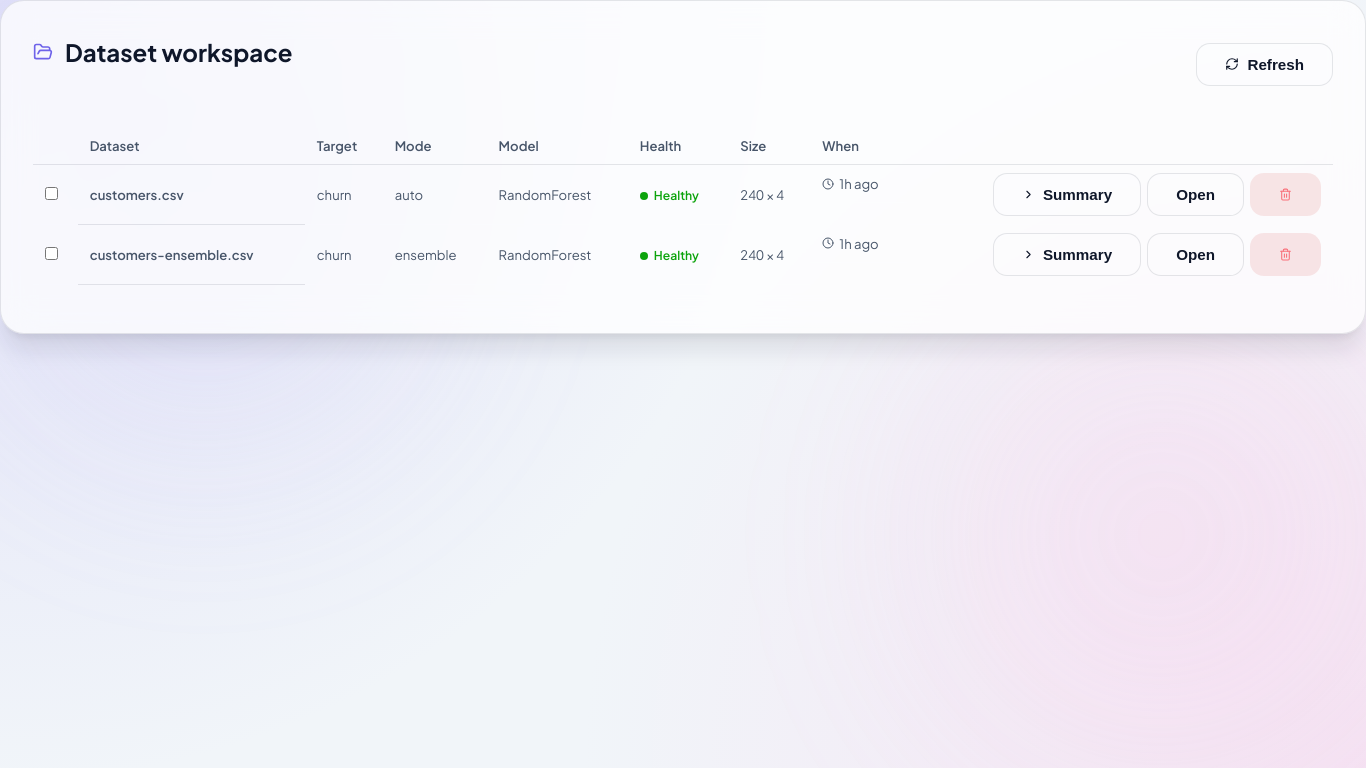
Test: Workspace › compares selected runs
The image size is (1366, 768).
What coordinates should you click on to do the following:
click the checkbox named "Compare customers.csv"
I would click on:
 (52, 194)
Its box is [45,187,58,200].
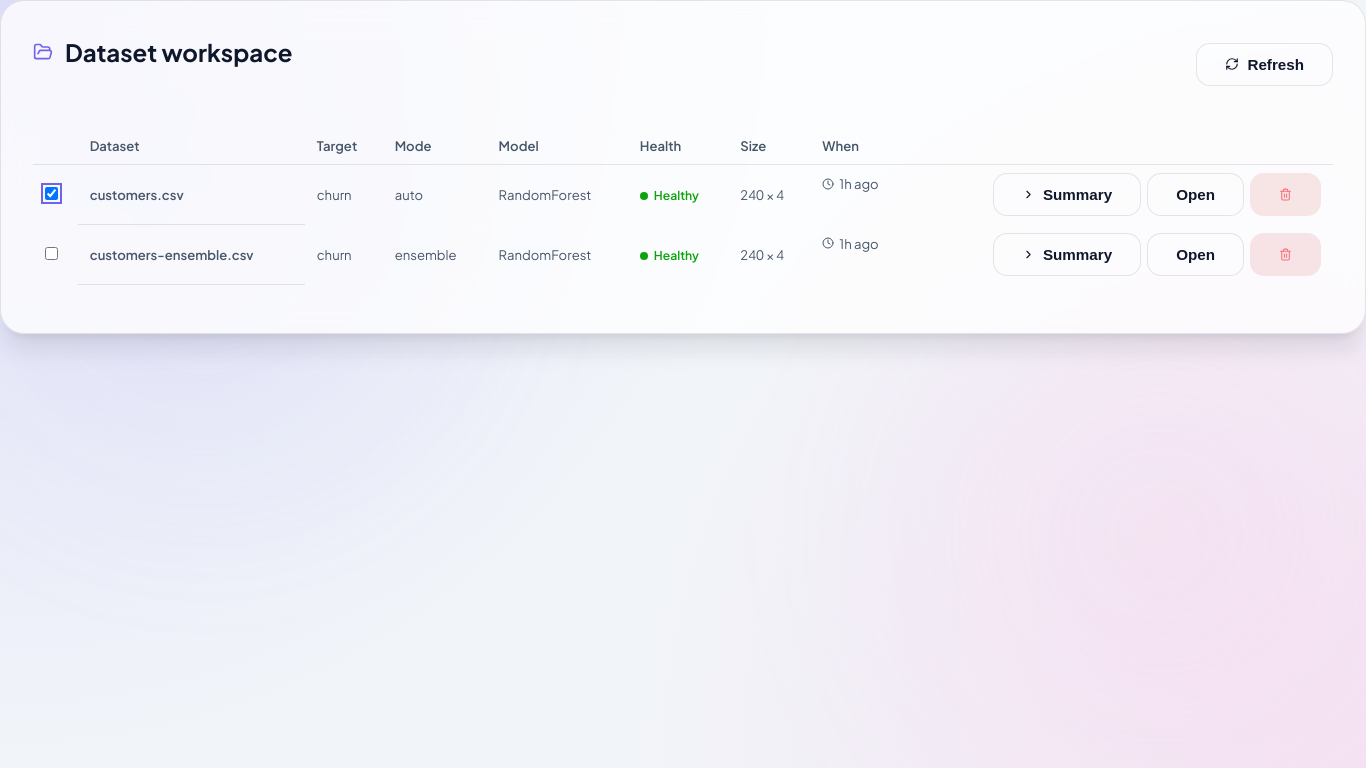
What coordinates should you click on to do the following:
click the checkbox named "Compare customers-ensemble.csv"
I would click on:
 (52, 254)
Its box is [45,247,58,260].
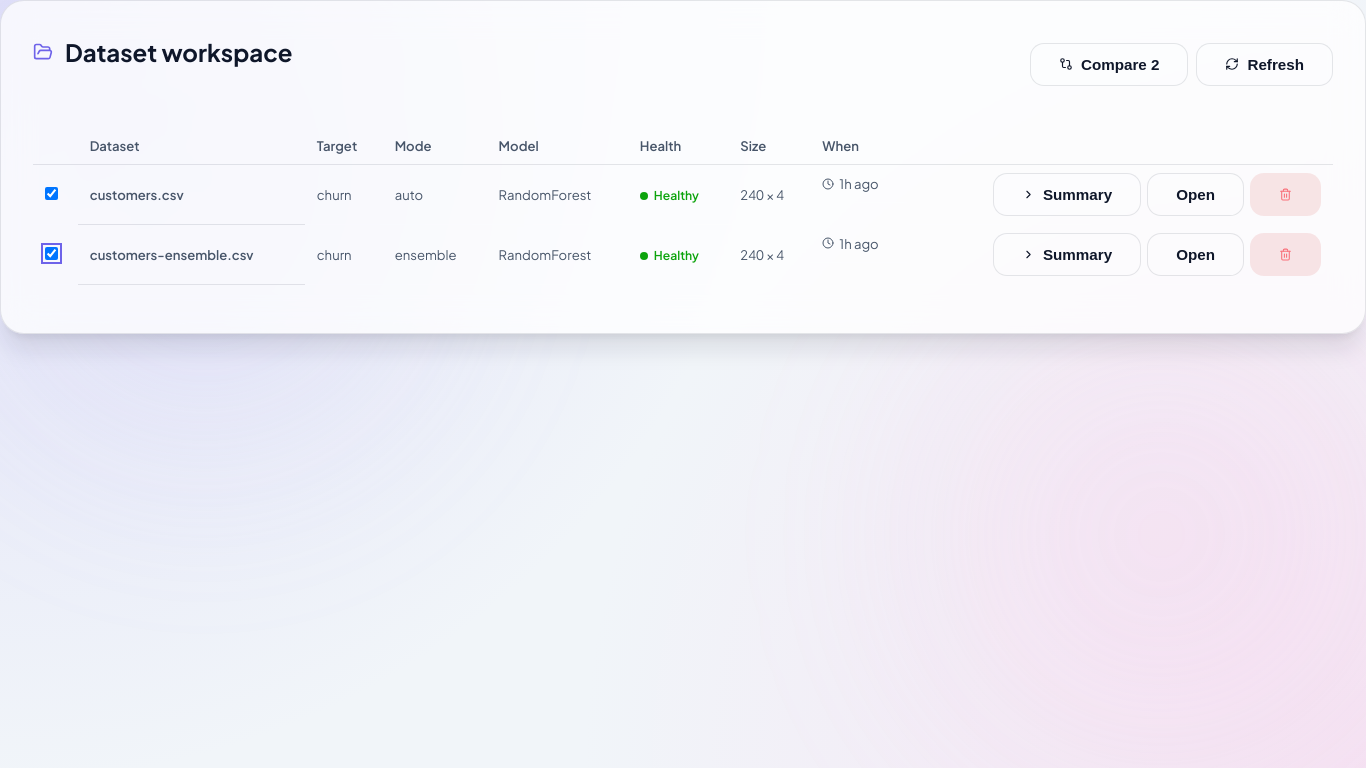
What coordinates should you click on to do the following:
click the button "Compare 2"
I would click on:
 (1109, 64)
Its box is [1030,43,1188,86].
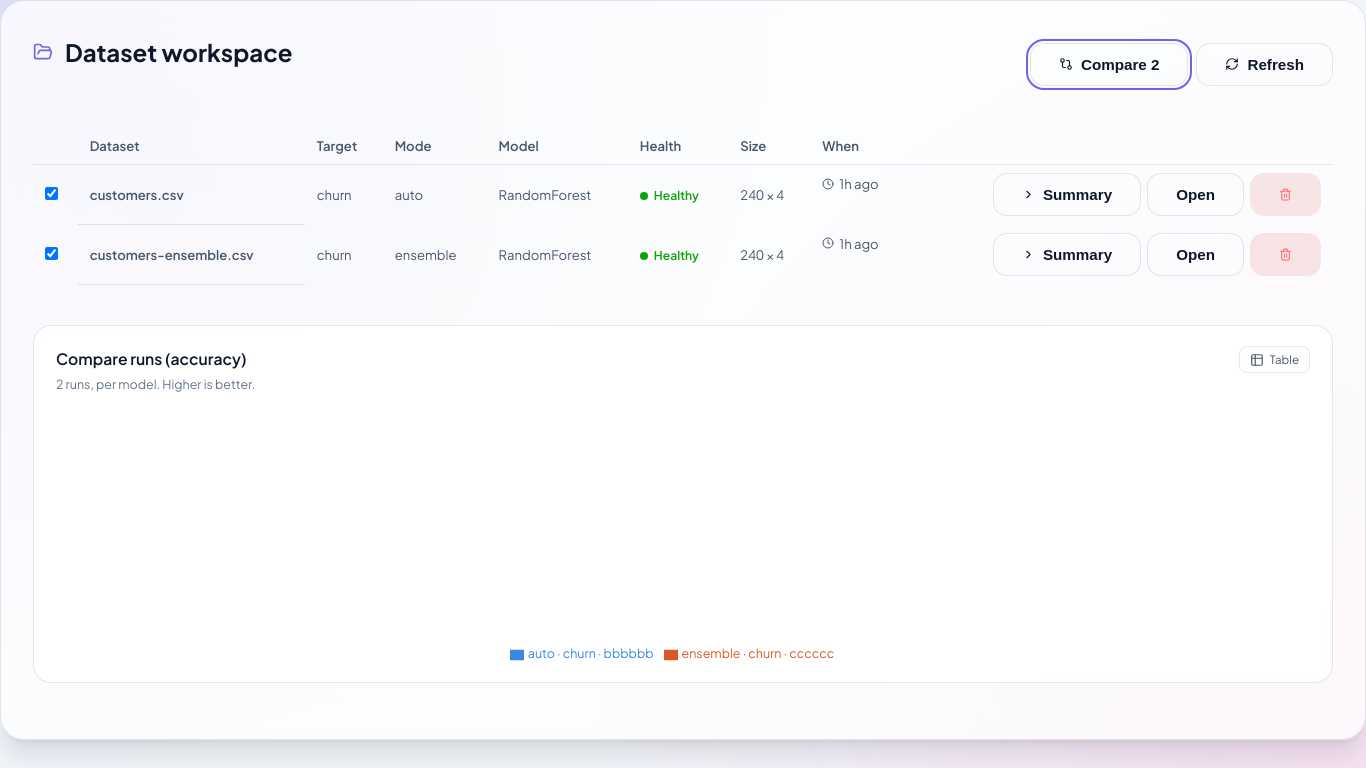
Now the heading "Compare runs (accuracy)" is shown, box [56,346,255,372]
